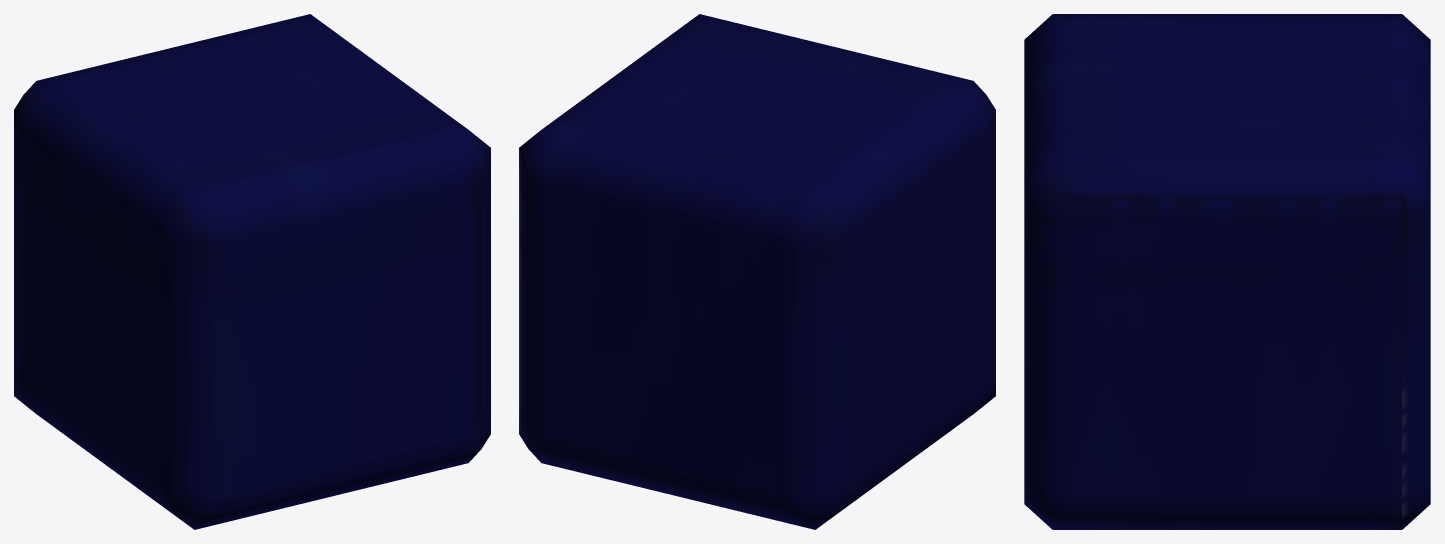
The picture shows the model from 3 angles, left to right: view 1: azimuth 30°, elevation 25°; view 2: azimuth 150°, elevation 25°; view 3: azimuth 270°, elevation 25°; orthographic projection. The views are drawn at different scales.
Visible parts, largest first — view 1: Cube; view 2: Cube; view 3: Cube.
Part boxes in pixels (left/top/right/bottom): Cube: left=14, top=14, right=490, bottom=529; Cube: left=519, top=14, right=995, bottom=529; Cube: left=1024, top=14, right=1430, bottom=529.
Bounding box in the file's own units: 1.1 × 1.1 × 1.1.
1 material, 1 textured.
